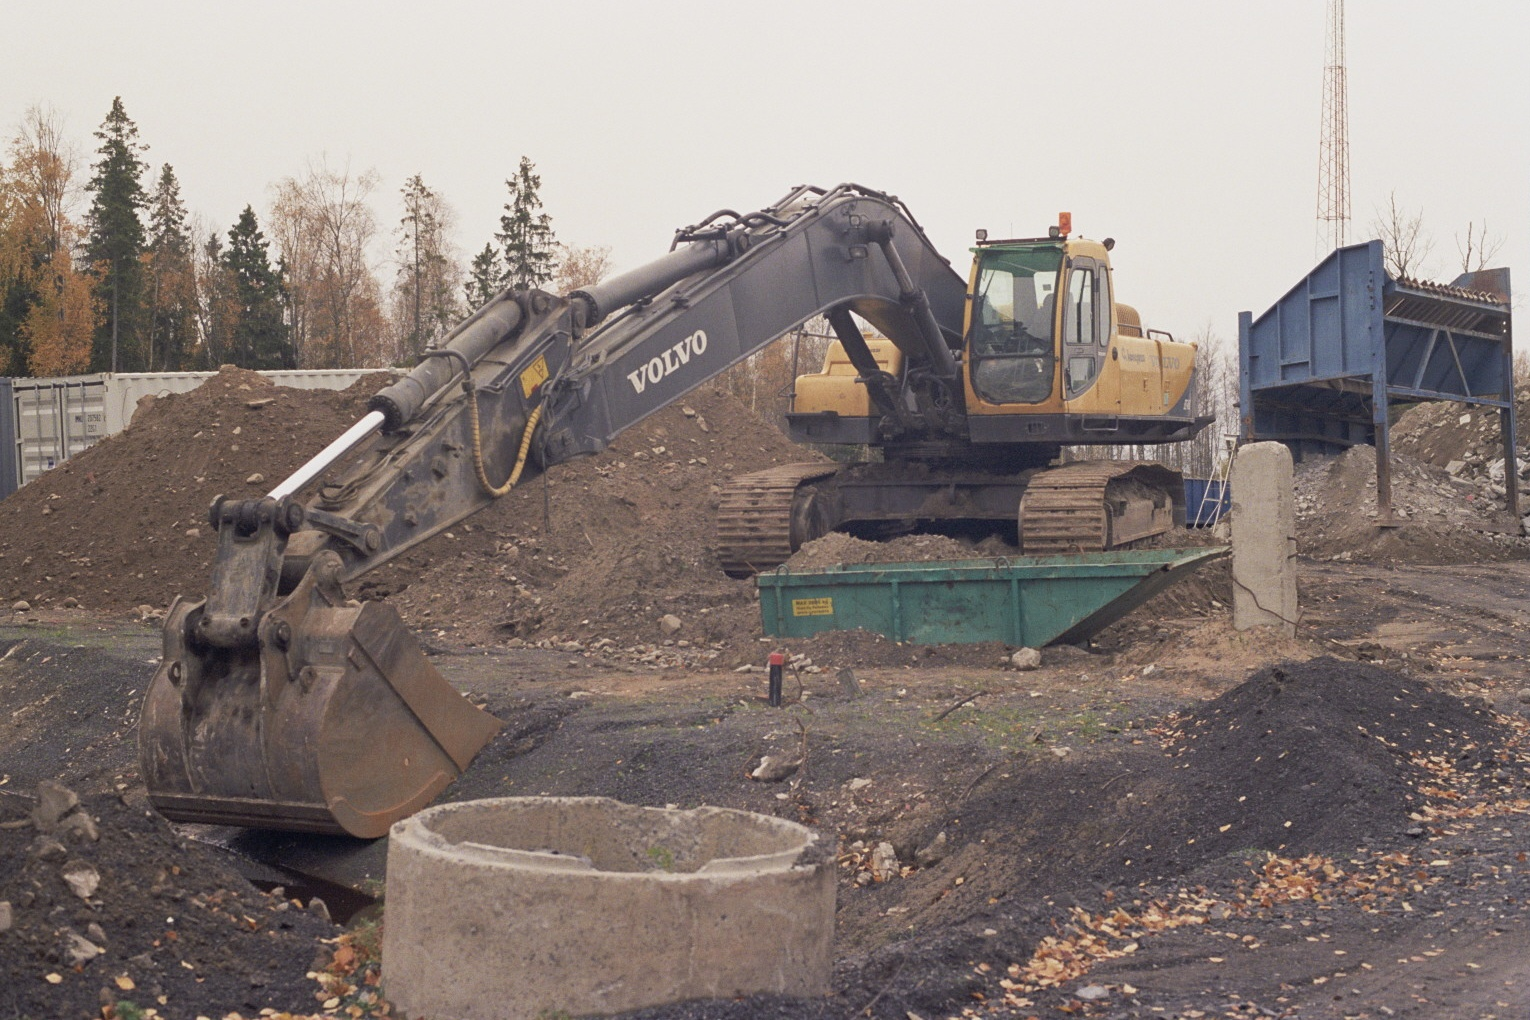excavator: (133, 186, 1217, 844)
